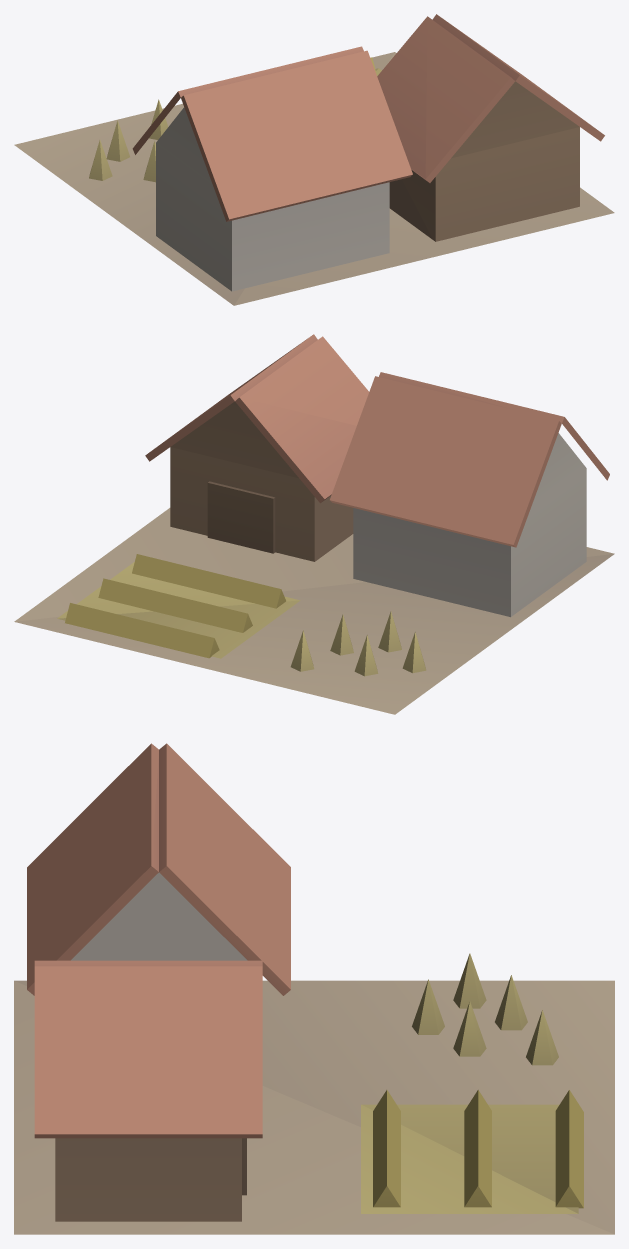
File: wheat_farm.lite.glb
3 renders of one model, top to bottom at view 1: azimuth 30°, elevation 25°; view 2: azimuth 150°, elevation 25°; view 3: azimuth 270°, elevation 25°, orthographic. The views are drawn at different scales.
Visible parts, largest first — view 1: wheat_farm; view 2: wheat_farm; view 3: wheat_farm.
Boxes of the visible parts, box(x1,y1,x2,y2) form: wheat_farm: box(14, 14, 614, 305); wheat_farm: box(14, 334, 614, 714); wheat_farm: box(14, 743, 614, 1234).
Bounding box in the file's own units: 2.9 × 1.28 × 2.9.
